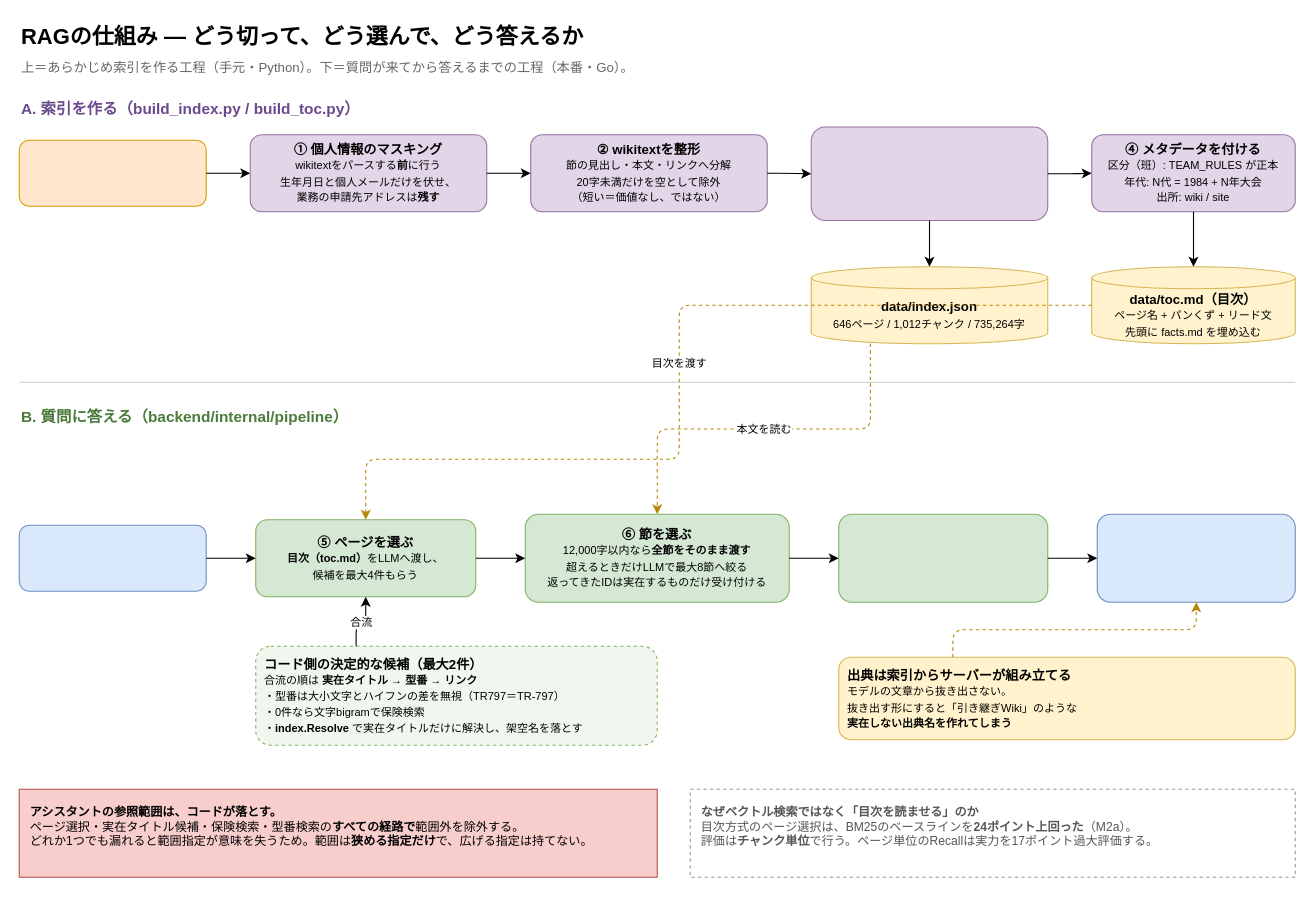
The diagram is 1315 pixels wide and 897 high, and some of its shapes have lost their labels. The centre of each missing label's shape, as x and y in pixels:
Wiki / 公式サイト / FEE dump/pages.jsonl: point 112,172
③ チャンク化（検索の単位） 目標 1,200字 / 最大 2,500字 最上位見出しをまたがない 末尾が200字未満なら直前へ吸収 パンくず＝全節の共通接頭辞: point 929,173
⑦ 回答を作る 選んだ本文 + 会話の文脈 + アシスタントの口調規則 → Gemini: point 943,557
⑧ 画面へ返す（SSE） pages → delta → done 出典カードが先、本文は少しずつ: point 1195,557
質問 + 直近2往復 + 画像1枚（任意）: point 112,557
